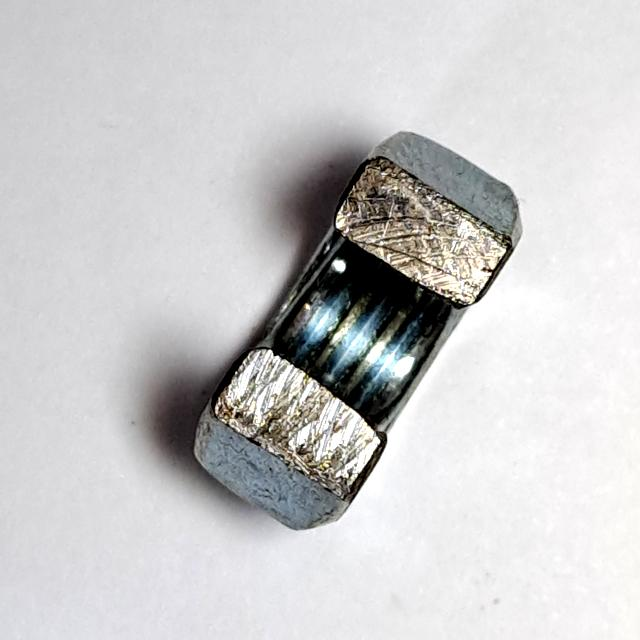Side-Fracture: (179, 113, 536, 547)
